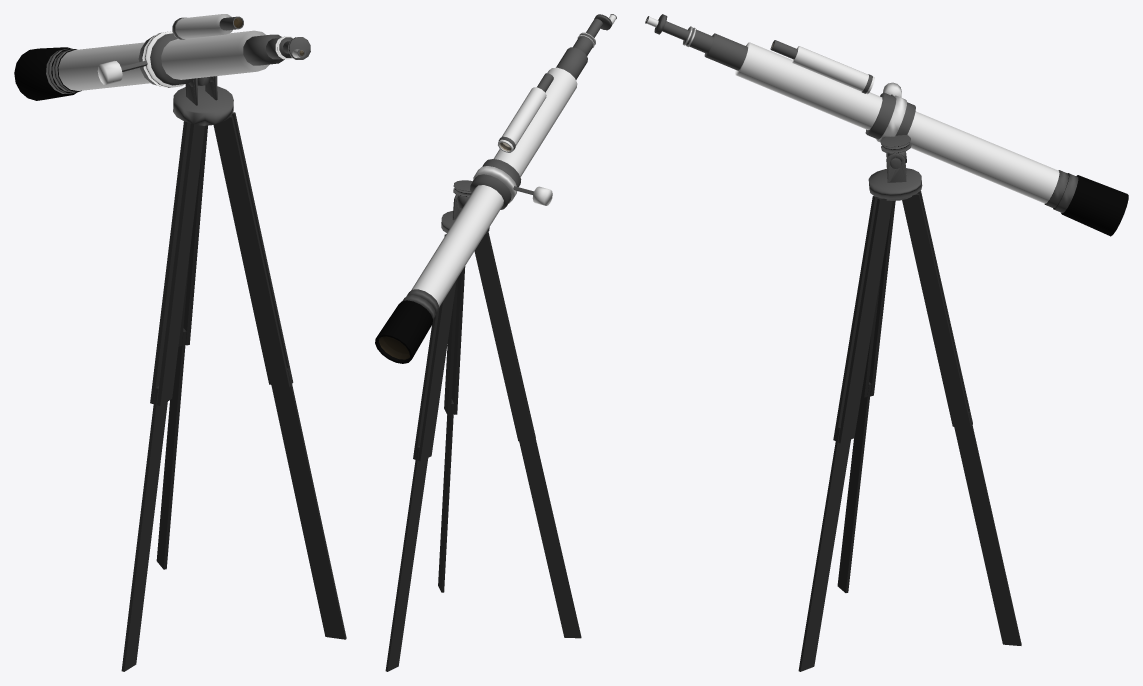
Rendered from Telescope1.fbx.
The picture shows the model from 3 angles, left to right: view 1: azimuth 30°, elevation 25°; view 2: azimuth 150°, elevation 25°; view 3: azimuth 270°, elevation 25°; orthographic projection. The views are drawn at different scales.
Visible parts, largest first — view 1: transform43, transform25, transform23, transform22, transform20, transform17, transform21, transform3, transform42, transform18, transform16, transform24 (+3 smaller); view 2: transform43, transform21, transform20, transform17, transform42, transform19, transform23, transform16, transform25, transform39, transform24, transform18 (+3 smaller); view 3: transform43, transform18, transform17, transform24, transform23, transform42, transform20, transform16, transform25, transform21, transform3, transform39 (+1 smaller).
Part boxes in pixels (x1,y1,x2,y2): transform43: (58, 30, 269, 90); transform25: (213, 115, 290, 387); transform23: (271, 368, 346, 639); transform22: (157, 123, 204, 405); transform20: (121, 386, 167, 671); transform17: (156, 328, 186, 569); transform21: (150, 121, 190, 403); transform3: (173, 85, 233, 124); transform42: (14, 47, 75, 100); transform18: (183, 125, 207, 345); transform16: (172, 14, 232, 38); transform24: (231, 112, 293, 383); transform43: (411, 67, 577, 307); transform21: (474, 233, 535, 441); transform20: (519, 427, 581, 638); transform17: (385, 446, 428, 671); transform42: (375, 300, 432, 363); transform19: (418, 280, 456, 461); transform23: (438, 399, 454, 592); transform16: (498, 87, 546, 152); transform25: (451, 266, 465, 414); transform39: (470, 159, 521, 209); transform24: (444, 277, 458, 415); transform18: (413, 234, 445, 459); transform43: (735, 42, 1059, 203); transform18: (902, 193, 971, 428); transform17: (954, 412, 1021, 645); transform24: (838, 198, 892, 443); transform23: (798, 426, 850, 671); transform42: (1061, 175, 1128, 236); transform20: (837, 382, 871, 592); transform16: (792, 46, 874, 94); transform25: (833, 196, 878, 440); transform21: (869, 201, 895, 396); transform3: (868, 168, 922, 199); transform39: (865, 92, 915, 139).
Bounding box in the file's own units: 5.41 × 17.61 × 12.8.
